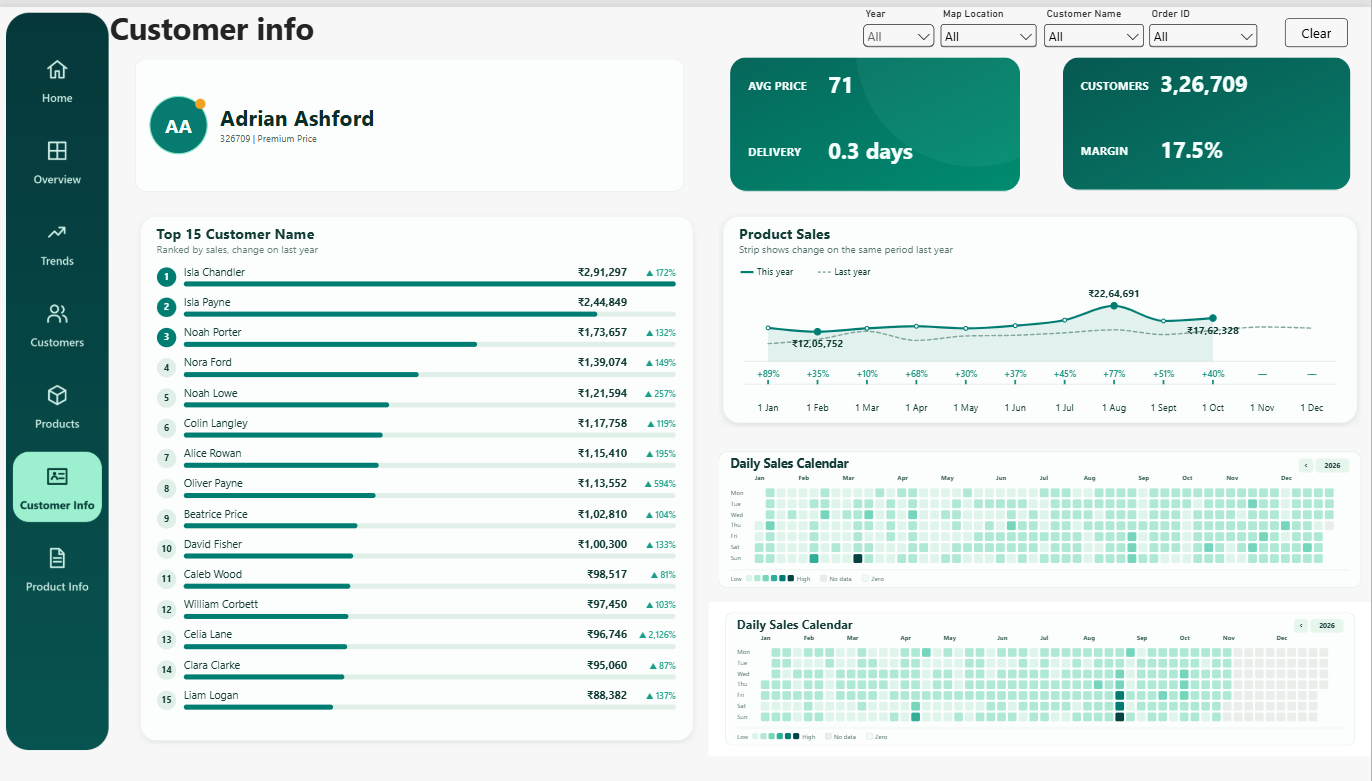

The page's visual inventory and layout, read from the dashboard file:
{"tool":"powerbi","page":{"name":"Customer info","canvas":[1920,1080],"ordinal":5},"visuals":[{"type":"image","box":[14.7,0,143.6,1045.4],"z":0},{"type":"RankedHorizontalBarsD391A8F624BC","fields":{"value":["Order_Items.Product Sales"],"lastYear":["Order_Items.Product Sales LY"],"category":["Order_Items.Customer Name"]},"box":[179.1,272.9,814.4,772.8],"z":1000},{"type":"LineChartPercentStripB582D7C901AF","fields":{"period":["Date.Month Start"],"value":["Order_Items.Product Sales"],"lastYear":["Order_Items.Product Sales LY"]},"box":[992,272.4,927.6,329.4],"z":2000},{"type":"RetailInfoHeader88B5FC91C15046ECA1A7C55AB2F71F9A","fields":{"identifier":["CountNonNull(Order_Items.Order ID)"],"category":["Min(Order_Items.Customer Type)"],"name":["Min(Order_Items.Customer Name)"]},"box":[178.5,57.1,798.8,215.3],"z":3000},{"type":"slicer","fields":{"Values":["Order_Items.Order ID"]},"box":[1604.9,0,160.4,56.2],"z":4000},{"type":"slicer","fields":{"Values":["Order_Items.Customer Name"]},"box":[1457.7,0,147.9,56.2],"z":5000},{"type":"OverviewKpiPair59A3EB32F21C43E6A48DFE0E31C1B854","fields":{"top":["Bengaluru Store Zones.Average Selling Price"],"bottom":["Bengaluru Store Zones.Average Scheduled Delivery Days"]},"box":[993.5,56.2,464.5,216.6],"z":6000},{"type":"OverviewKpiPair59A3EB32F21C43E6A48DFE0E31C1B854","fields":{"top":["CountNonNull(Order_Items.Customer Name)"],"bottom":["Order_Items.Estimated Profit Margin"]},"box":[1458,56.2,462.4,214.5],"z":7000},{"type":"slicer","fields":{"Values":["Bengaluru Store Zones.Map Location"]},"box":[1314.1,0,143.7,62.5],"z":8000},{"type":"slicer","fields":{"Values":["Order_Items.Year"]},"box":[1205.5,0,109,63.8],"z":9000},{"type":"textbox","box":[158.3,0,320.2,66.3],"z":10000},{"type":"shape","box":[51.5,165.6,71.8,64.4],"z":11000},{"type":"shape","box":[53.4,287.1,71.8,66.3],"z":12000},{"type":"shape","box":[25.8,392,64.4,66.3],"z":13000},{"type":"shape","box":[51.5,522.7,68.1,55.2],"z":14000},{"type":"shape","box":[51.5,745.4,60.7,60.7],"z":15000},{"type":"shape","box":[55.2,64.4,69.9,55.2],"z":16000},{"type":"DailySalesCalendar09C20BB1D6614DA6AF8601F492C71E31","fields":{"date":["Date.Date"],"sales":["Order_Items.Product Sales"]},"box":[993.9,830.1,925.8,215.3],"z":17000},{"type":"DailySalesCalendar09C20BB1D6614DA6AF8601F492C71E31","fields":{"date":["Date.Date"],"sales":["Order_Items.Product Sales LY"]},"box":[992,601.8,927.6,228.2],"z":18000},{"type":"actionButton","box":[1798.2,16.6,88.3,40.5],"z":19000}]}

Visuals, with their boxes on the page's 1920x1080 design canvas (x1, y1, x2, y2). These are canvas units, not pixel positions in the 1372x781 screenshot, which may show the page scaled, cropped or inside an application window:
image: detection(15, 0, 158, 1045)
RankedHorizontalBarsD391A8F624BC - Order_Items.Product Sales x Order_Items.Product Sales LY: detection(179, 273, 994, 1046)
LineChartPercentStripB582D7C901AF - Date.Month Start x Order_Items.Product Sales: detection(992, 272, 1920, 602)
RetailInfoHeader88B5FC91C15046ECA1A7C55AB2F71F9A - CountNonNull(Order_Items.Order ID) x Min(Order_Items.Customer Type): detection(178, 57, 977, 272)
slicer - Order_Items.Order ID: detection(1605, 0, 1765, 56)
slicer - Order_Items.Customer Name: detection(1458, 0, 1606, 56)
OverviewKpiPair59A3EB32F21C43E6A48DFE0E31C1B854 - Bengaluru Store Zones.Average Selling Price x Bengaluru Store Zones.Average Scheduled Delivery Days: detection(994, 56, 1458, 273)
OverviewKpiPair59A3EB32F21C43E6A48DFE0E31C1B854 - CountNonNull(Order_Items.Customer Name) x Order_Items.Estimated Profit Margin: detection(1458, 56, 1920, 271)
slicer - Bengaluru Store Zones.Map Location: detection(1314, 0, 1458, 62)
slicer - Order_Items.Year: detection(1206, 0, 1314, 64)
textbox: detection(158, 0, 478, 66)
shape: detection(52, 166, 123, 230)
shape: detection(53, 287, 125, 353)
shape: detection(26, 392, 90, 458)
shape: detection(52, 523, 120, 578)
shape: detection(52, 745, 112, 806)
shape: detection(55, 64, 125, 120)
DailySalesCalendar09C20BB1D6614DA6AF8601F492C71E31 - Date.Date x Order_Items.Product Sales: detection(994, 830, 1920, 1045)
DailySalesCalendar09C20BB1D6614DA6AF8601F492C71E31 - Date.Date x Order_Items.Product Sales LY: detection(992, 602, 1920, 830)
actionButton: detection(1798, 17, 1886, 57)
